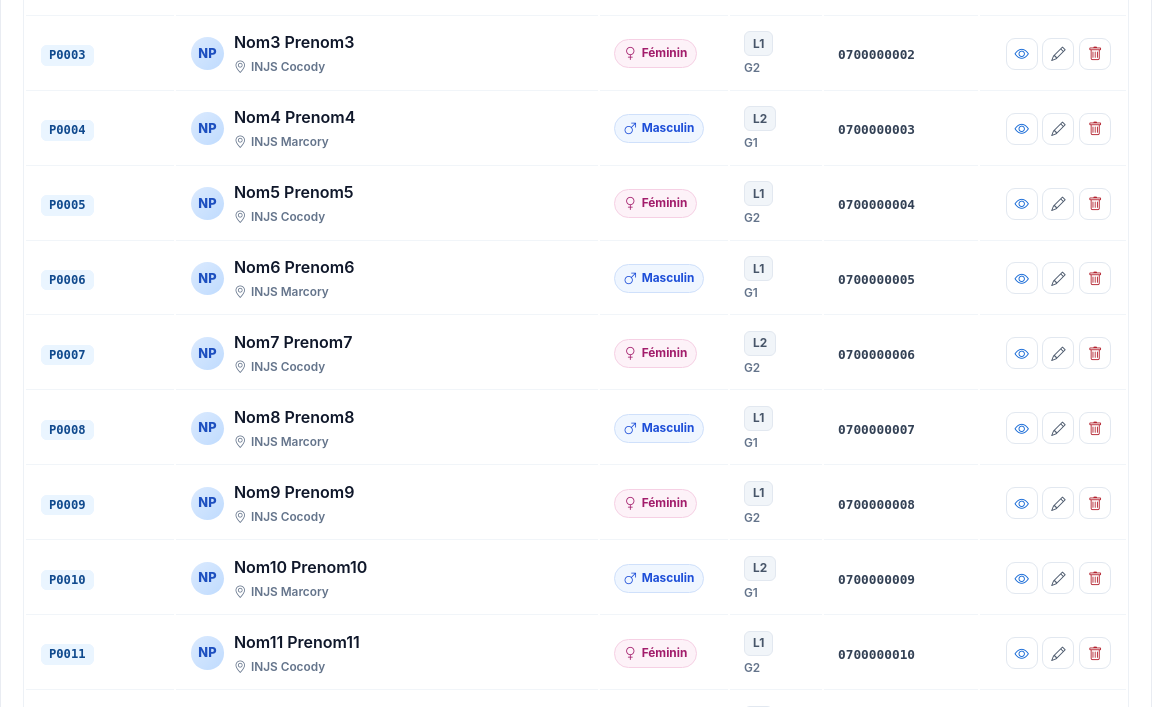
pages/Participants.jsx — création et édition (LOT 23) › pré-remplit la modale de modification et envoie un PATCH ciblé
The width and height of the screenshot is (1152, 707).
(page scrolled)
Click the button titled "Modifier" at (1058, 353), box [1042,337,1074,369]
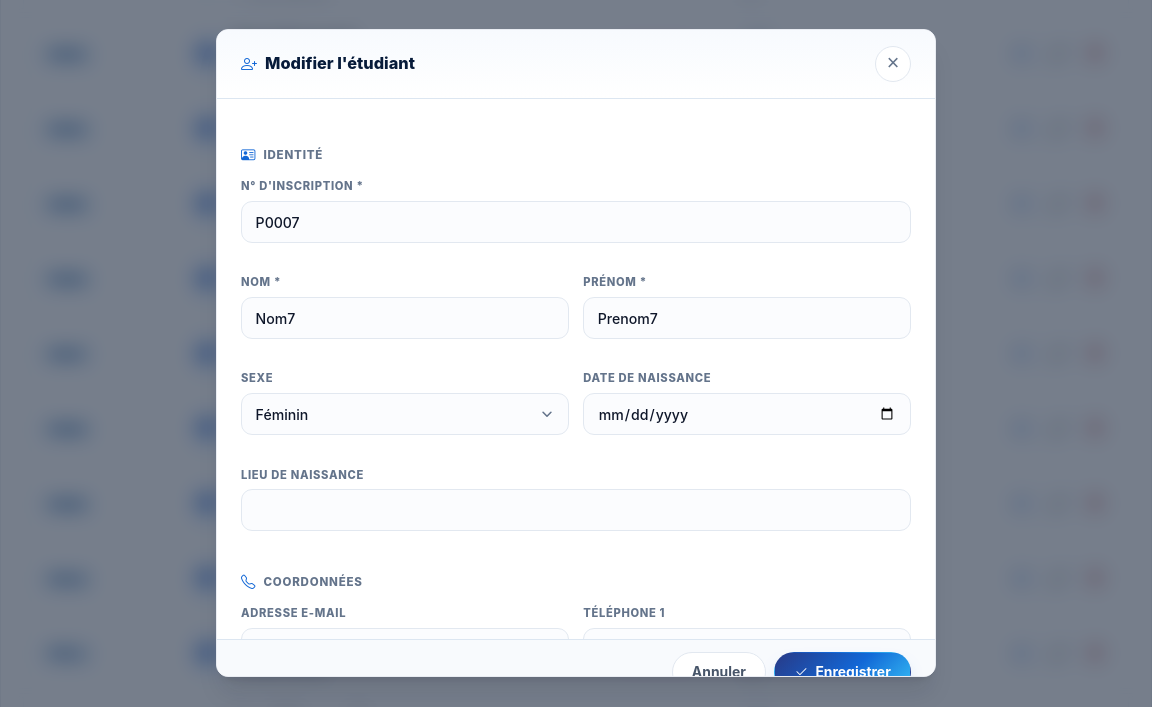
Result: the field below "N° d'inscription *" holds "P0007" at [241,201,911,243]
Result: the 2nd field holds "Nom7"
Replace the text in the 2nd field with "Nom7-modifie" at (405, 318), box [241,297,569,339]
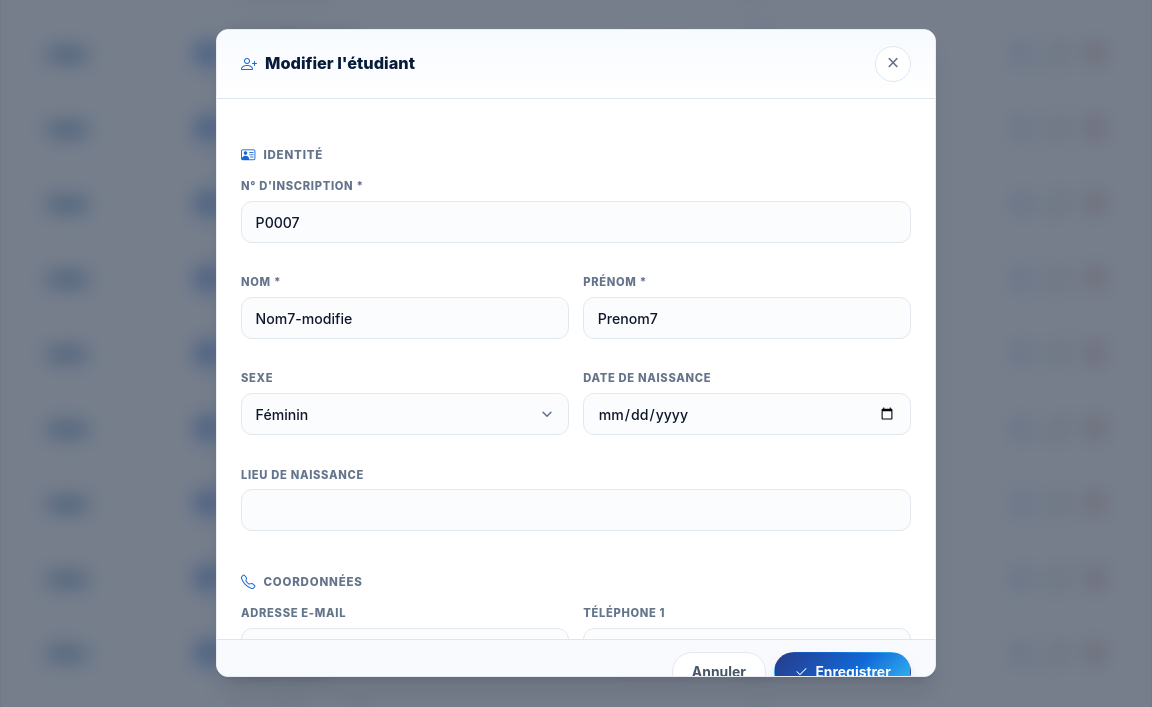
Note: Une date renseignée est transmise.
Type "2000-05-17" into the date field at (747, 414), box [583,393,911,435]
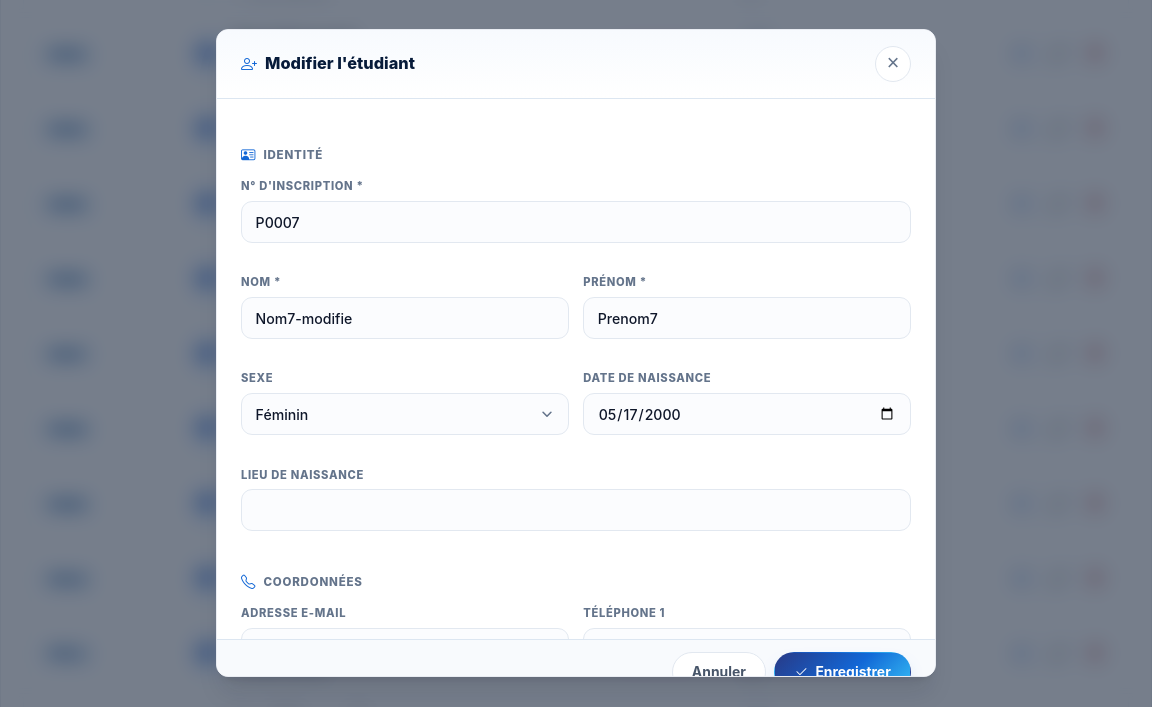
Click the button "Enregistrer" at (843, 672), box [774,652,911,692]
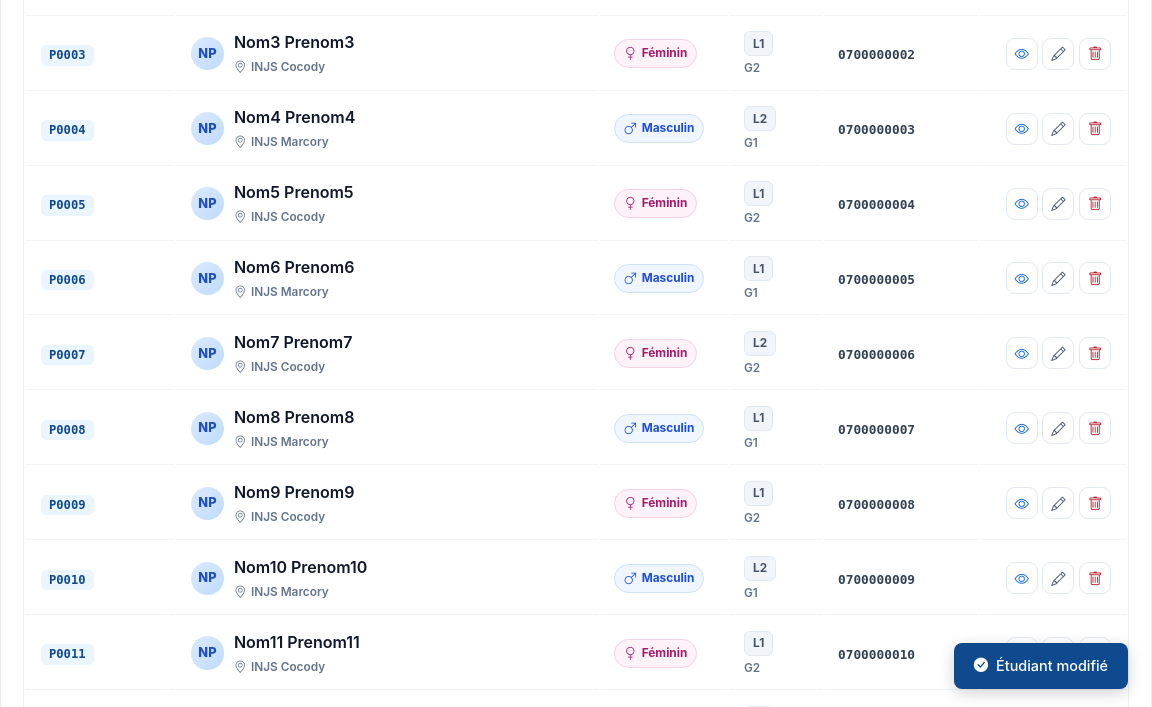
Result: the text "Étudiant modifié" is shown at [954,643,1128,689]
